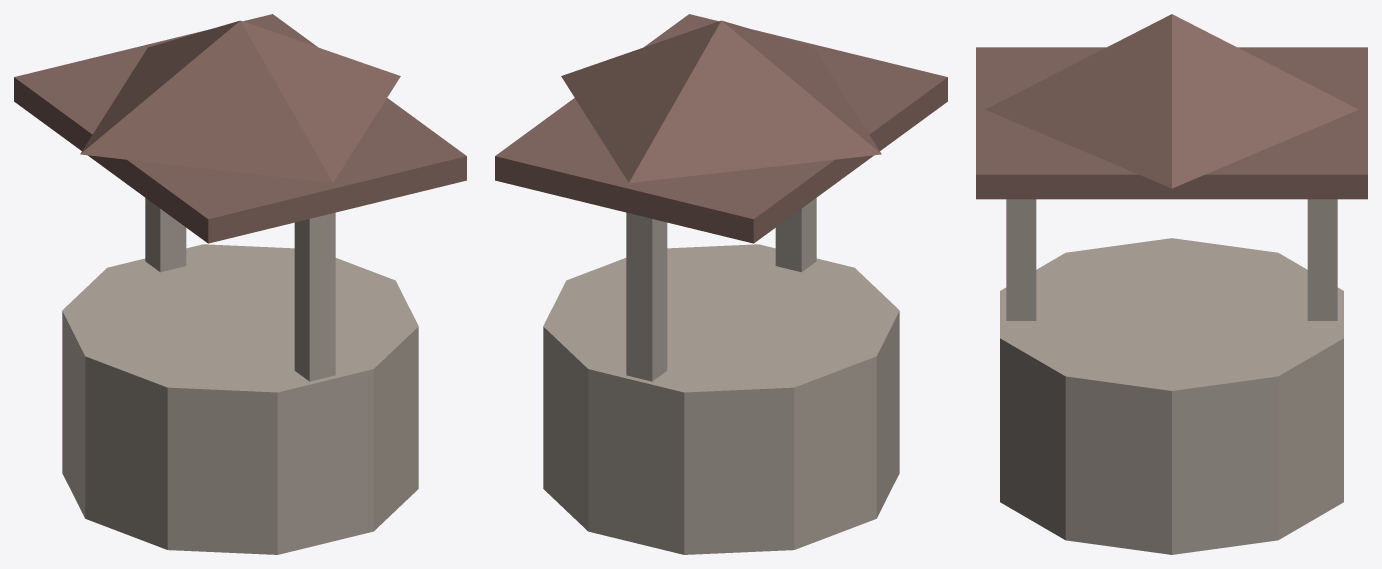
3 views of the same model, side by side, from view 1: azimuth 30°, elevation 25°; view 2: azimuth 150°, elevation 25°; view 3: azimuth 270°, elevation 25° (orthographic).
Parts seen in each view (by area): view 1: part0, part4, part3, part2, part1; view 2: part0, part4, part3, part1, part2; view 3: part0, part4, part3, part1, part2.
Boxes of the visible parts, left/top/right/bottom form: part0: left=62, top=244, right=418, bottom=554; part4: left=80, top=20, right=400, bottom=182; part3: left=14, top=14, right=466, bottom=243; part2: left=294, top=212, right=335, bottom=381; part1: left=145, top=198, right=186, bottom=272; part0: left=543, top=244, right=899, bottom=554; part4: left=561, top=20, right=881, bottom=182; part3: left=495, top=14, right=947, bottom=243; part1: left=626, top=212, right=667, bottom=381; part2: left=775, top=198, right=816, bottom=272; part0: left=1000, top=238, right=1343, bottom=554; part4: left=985, top=14, right=1358, bottom=188; part3: left=976, top=47, right=1367, bottom=199; part1: left=1307, top=199, right=1337, bottom=320; part2: left=1006, top=199, right=1036, bottom=320.
Bounding box in the file's own units: 2.48 × 3.4 × 2.6.
